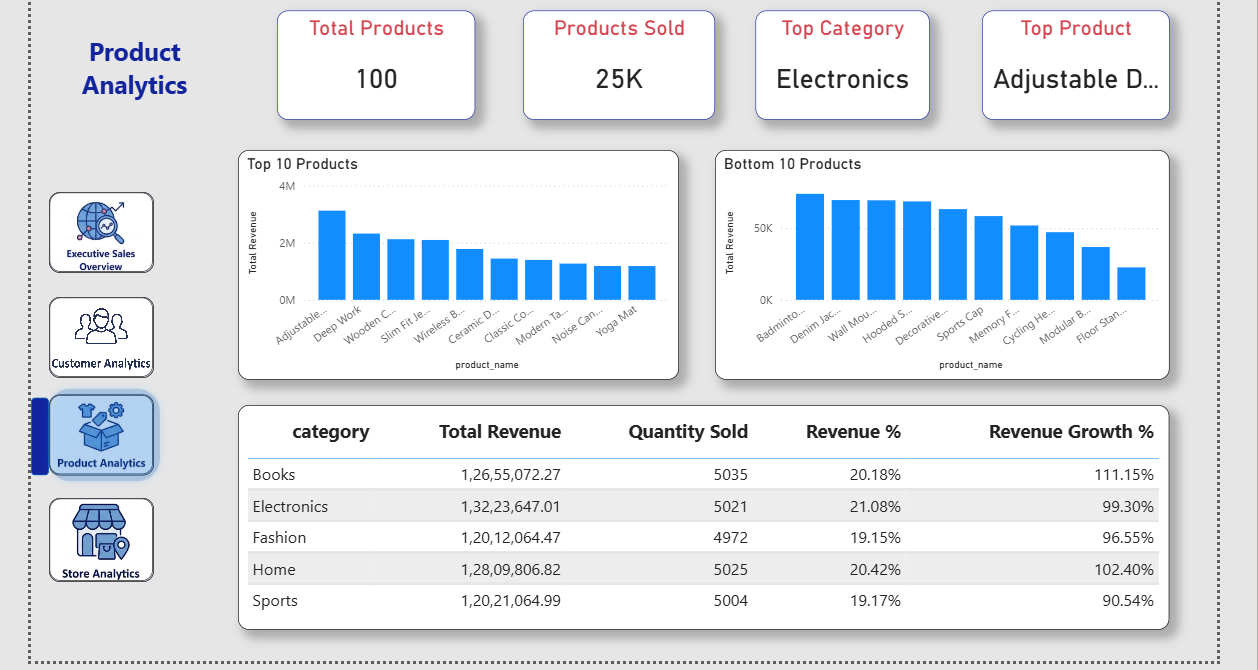

What the dashboard file says about the page in this screenshot:
{"tool":"powerbi","page":{"name":"Product Analytics","canvas":[1280,720],"ordinal":2},"visuals":[{"type":"card","title":"Total Products","fields":{"Values":["CountNonNull(sql_interview_db products.product_id)"]},"box":[265.6,17.8,213.7,118.2],"z":0},{"type":"card","title":"Products Sold","fields":{"Values":["Sum(sql_interview_db order_items.quantity)"]},"box":[531.1,17.8,207.3,118.2],"z":1000},{"type":"card","title":"Top Category","fields":{"Values":["Min(sql_interview_db products.category)"]},"box":[782.1,17.8,187.8,118.2],"z":2000},{"type":"card","title":"Top Product","fields":{"Values":["Min(sql_interview_db products.product_name)"]},"box":[1026.6,17.8,202.4,118.2],"z":3000},{"type":"textbox","box":[0,38.9,223.5,89.1],"z":4000},{"type":"clusteredColumnChart","title":"Top 10 Products","fields":{"Category":["sql_interview_db products.product_name"],"Y":["sql_interview_db products.Total Revenue"]},"box":[223.5,168.4,476.1,247.7],"z":5000},{"type":"clusteredColumnChart","title":"Bottom 10 Products","fields":{"Category":["sql_interview_db products.product_name"],"Y":["sql_interview_db products.Total Revenue"]},"box":[738.4,168.4,490.6,247.7],"z":6000},{"type":"tableEx","fields":{"Values":["sql_interview_db products.category","sql_interview_db products.Total Revenue","Sum(sql_interview_db order_items.quantity)","sql_interview_db products.Revenue %","sql_interview_db products.Revenue Growth %"]},"box":[223.5,443.7,1005.5,242.9],"z":7000},{"type":"image","box":[19.4,213.7,113.3,87.4],"z":8000},{"type":"image","box":[19.4,327.1,113.3,87.4],"z":9000},{"type":"image","box":[19.4,432.3,113.3,87.4],"z":10000},{"type":"image","box":[19.4,544.1,113.3,90.7],"z":11000},{"type":"shape","box":[0,435.6,19.4,84.2],"z":12000},{"type":"shape","box":[9.7,417.8,137.6,116.6],"z":13000}]}

Visuals, with their boxes on the page's 1280x720 design canvas (x1, y1, x2, y2). These are canvas units, not pixel positions in the 1258x670 screenshot, which may show the page scaled, cropped or inside an application window:
"Total Products" card: bbox=(266, 18, 479, 136)
"Products Sold" card: bbox=(531, 18, 738, 136)
"Top Category" card: bbox=(782, 18, 970, 136)
"Top Product" card: bbox=(1027, 18, 1229, 136)
textbox: bbox=(0, 39, 224, 128)
"Top 10 Products" clusteredColumnChart: bbox=(224, 168, 700, 416)
"Bottom 10 Products" clusteredColumnChart: bbox=(738, 168, 1229, 416)
tableEx - sql_interview_db products.category x sql_interview_db products.Total Revenue: bbox=(224, 444, 1229, 687)
image: bbox=(19, 214, 133, 301)
image: bbox=(19, 327, 133, 414)
image: bbox=(19, 432, 133, 520)
image: bbox=(19, 544, 133, 635)
shape: bbox=(0, 436, 19, 520)
shape: bbox=(10, 418, 147, 534)
